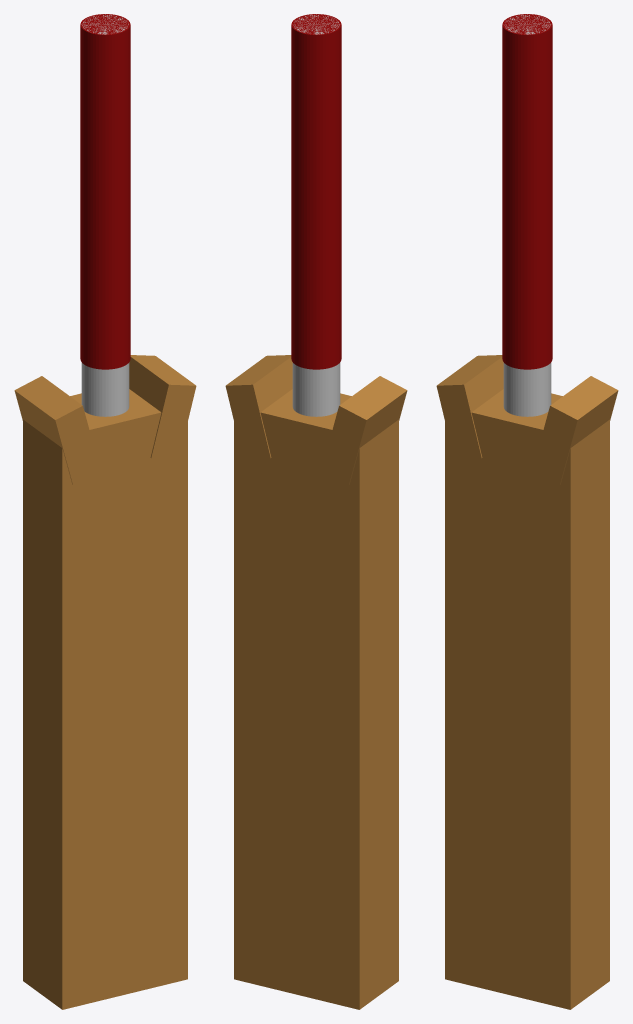
3 views of the same model, side by side, from view 1: azimuth 30°, elevation 25°; view 2: azimuth 150°, elevation 25°; view 3: azimuth 330°, elevation 25° (orthographic).
Visible parts, largest first — view 1: part_4, part_2, part_1, part_0, part_3; view 2: part_4, part_2, part_1, part_0, part_3; view 3: part_4, part_2, part_0, part_1, part_3.
Boxes of the visible parts, x1,y1,x2,y2 form: part_4: (23,389,187,1009); part_2: (80,14,130,369); part_1: (14,376,100,484); part_0: (129,355,196,459); part_3: (81,14,129,416); part_4: (234,389,398,1009); part_2: (291,14,341,369); part_1: (321,376,407,484); part_0: (225,355,292,459); part_3: (292,14,340,416); part_4: (445,389,609,1009); part_2: (502,14,552,369); part_0: (532,376,618,484); part_1: (436,355,503,459); part_3: (503,14,551,416).
Bounding box in the file's own units: 0.1546 × 1 × 0.0775.
